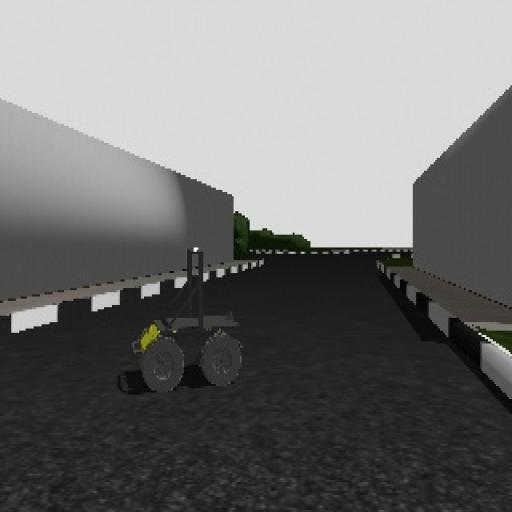huskya200: (118, 235, 249, 398)
